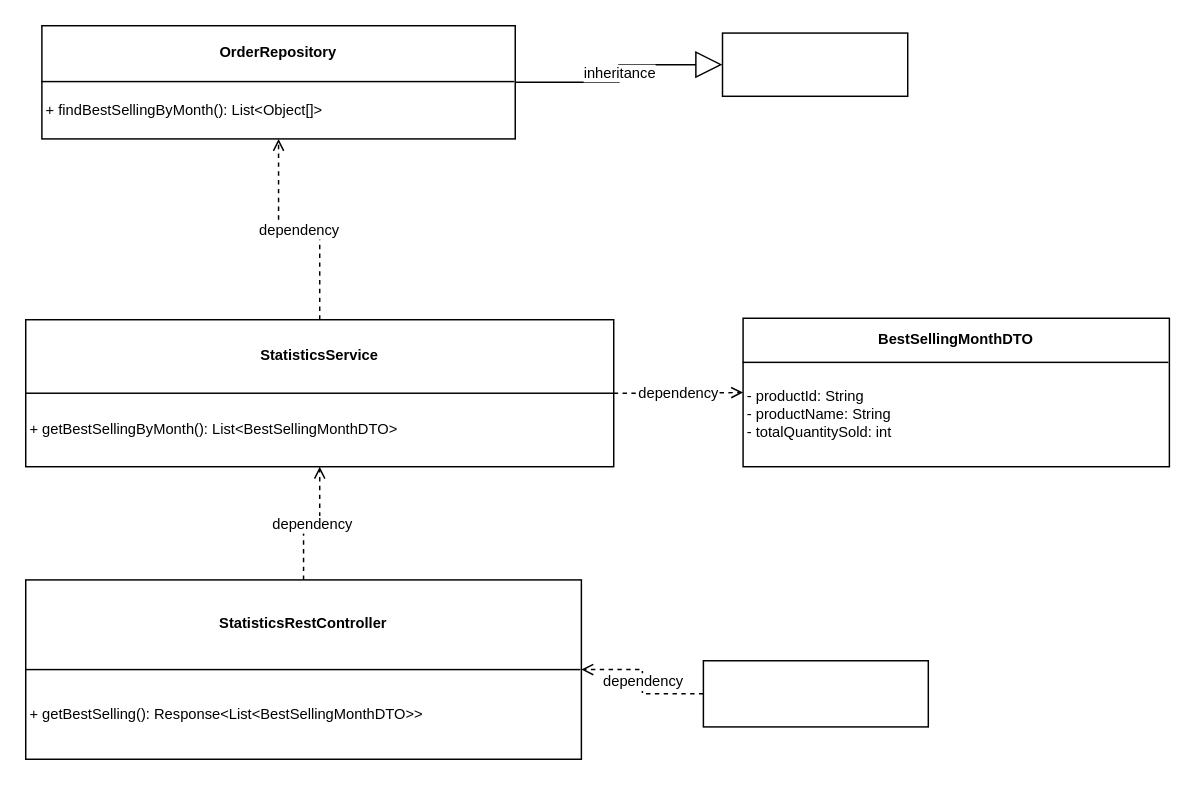
The diagram is 1195 pixels wide and 785 high, and some of its shapes have lost their labels. The shapes that lost their labels are listed below. From the top down, each one's box as (x1, y1, x2, y2) in pixels, then its label:
(721, 32, 908, 96): JpaRepository
(702, 659, 928, 727): DashboardPage
